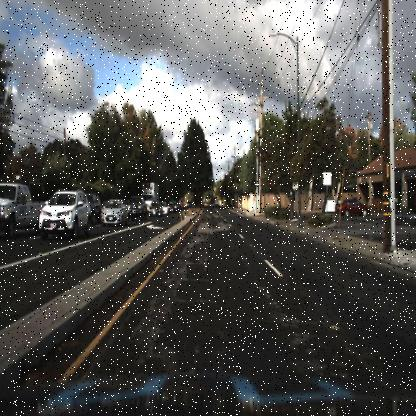car: (0, 172, 38, 237), (39, 192, 90, 240), (99, 199, 129, 226), (98, 198, 126, 225), (334, 195, 367, 215), (89, 186, 103, 230), (125, 195, 149, 220), (161, 200, 169, 219)
truck: (141, 182, 160, 200)
